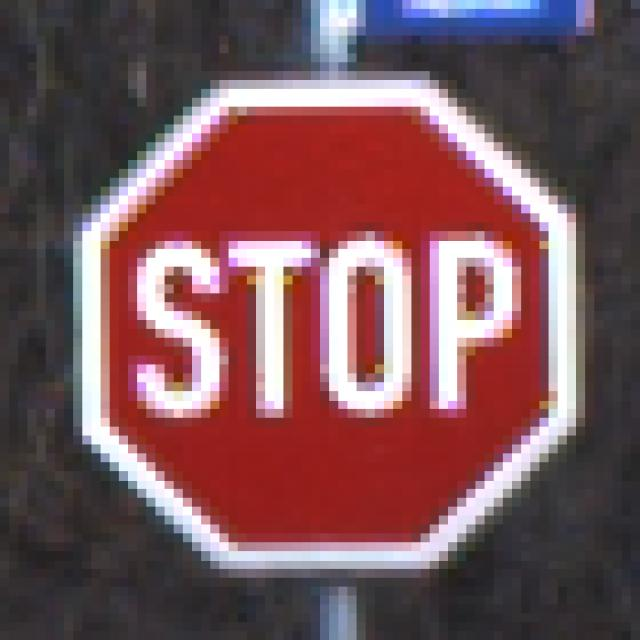stop: (78, 84, 564, 550)
